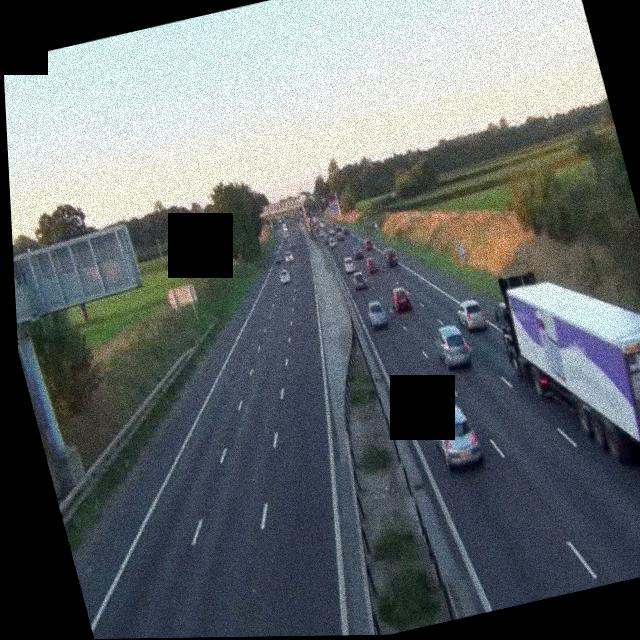car: (427, 401, 485, 471), (431, 321, 474, 371), (455, 296, 489, 333), (364, 297, 389, 328), (388, 283, 413, 312), (347, 264, 367, 288), (383, 247, 399, 267), (363, 252, 379, 272), (342, 257, 359, 275), (277, 264, 292, 284), (349, 243, 364, 259), (364, 238, 376, 253), (326, 233, 337, 246)
truck: (488, 251, 640, 497)
